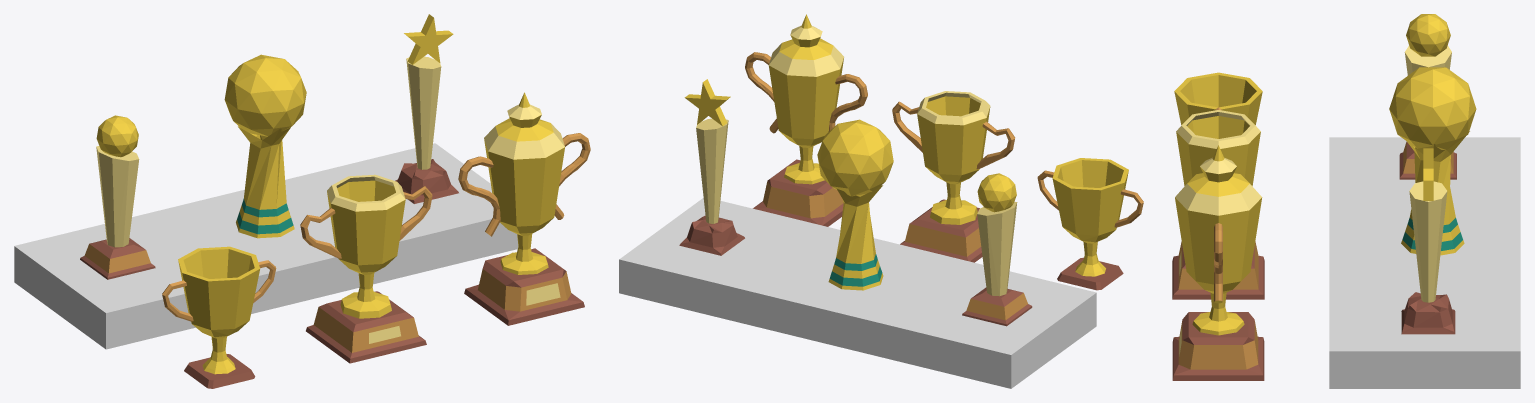
The model's file is trophees.gltf.
The picture shows the model from 3 angles, left to right: view 1: azimuth 30°, elevation 25°; view 2: azimuth 150°, elevation 25°; view 3: azimuth 270°, elevation 25°; orthographic projection. The views are drawn at different scales.
Parts seen in each view (by area): view 1: Cube, trophy_L, trophy_M, world cup trophy, trophy_S, ball trophy, star trophy; view 2: Cube, trophy_L, trophy_M, world cup trophy, trophy_S, ball trophy, star trophy; view 3: Cube, trophy_L, world cup trophy, trophy_M, star trophy, trophy_S, ball trophy.
Boxes of the visible parts, x1,y1,x2,y2 form: Cube: (14,143,518,349); trophy_L: (458,92,590,325); trophy_M: (300,174,432,363); world cup trophy: (224,54,306,238); trophy_S: (162,246,276,388); ball trophy: (80,115,155,279); star trophy: (395,14,458,203); Cube: (619,198,1096,388); trophy_L: (745,14,867,226); trophy_M: (892,91,1015,262); world cup trophy: (817,119,893,290); trophy_S: (1037,158,1143,290); ball trophy: (962,173,1032,326); star trophy: (679,79,744,255); Cube: (1329,137,1520,388); trophy_L: (1172,145,1264,380); world cup trophy: (1389,67,1476,255); trophy_M: (1172,107,1264,299); star trophy: (1401,148,1455,334); trophy_S: (1174,72,1262,124); ball trophy: (1399,14,1456,179).
Size of the model in its own units: 1.52 by 0.7038 by 1.02.
1 material, 1 textured.
